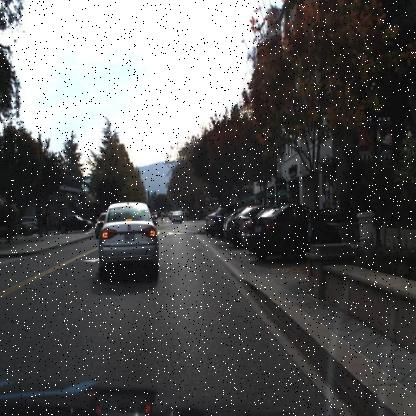car: (91, 195, 161, 284), (245, 196, 342, 260), (242, 201, 334, 261), (55, 211, 93, 236), (226, 208, 244, 245), (21, 214, 41, 237), (168, 205, 187, 229), (94, 210, 106, 242), (170, 208, 184, 226)
